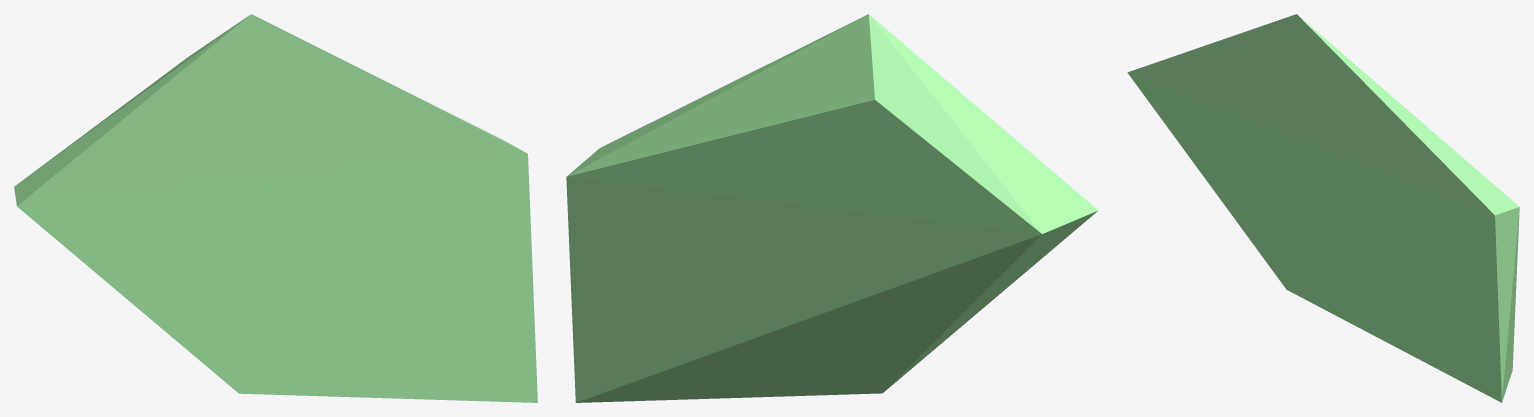
Rendered from linkhou_LR4_R560_link2_respondable_coll_20.dae.
3 renders of one model, left to right at view 1: azimuth 30°, elevation 25°; view 2: azimuth 150°, elevation 25°; view 3: azimuth 330°, elevation 25°, orthographic. The views are drawn at different scales.
Parts seen in each view (by area): view 1: Node_00000209DB3AB0A0; view 2: Node_00000209DB3AB0A0; view 3: Node_00000209DB3AB0A0.
Part boxes in pixels (x1,y1,x2,y2): Node_00000209DB3AB0A0: (14, 14, 537, 402); Node_00000209DB3AB0A0: (566, 14, 1098, 402); Node_00000209DB3AB0A0: (1127, 14, 1519, 402).
Bounding box in the file's own units: 0.0691 × 0.0584 × 0.00849.
